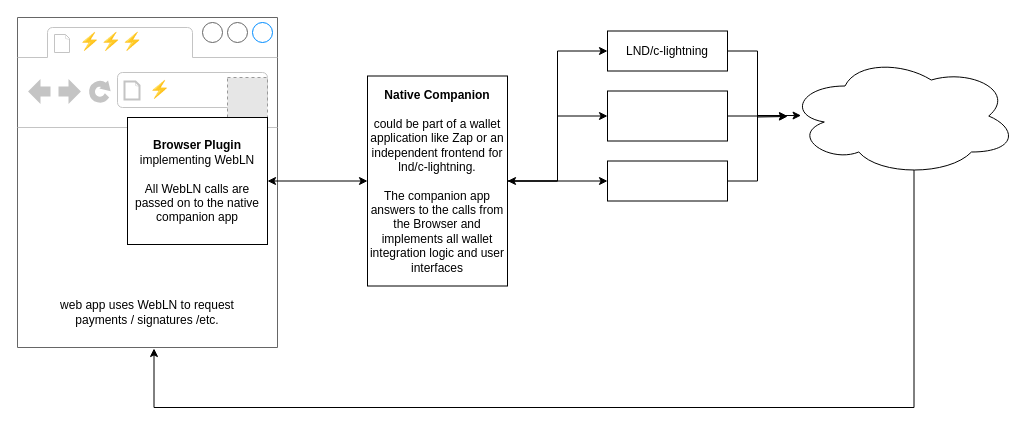
This 1035x433 diagram has some shape labels left out. Grey dashed boxes stand in for pictures. Here are the shapes that lost their labels. From the top down, the centre of each, then its label:
At (667,115): "custodial wallets lnhub/lnbits".
At (902,115): "⚡⚡ Lightning Network ⚡⚡".
At (667,180): "mobile apps".
